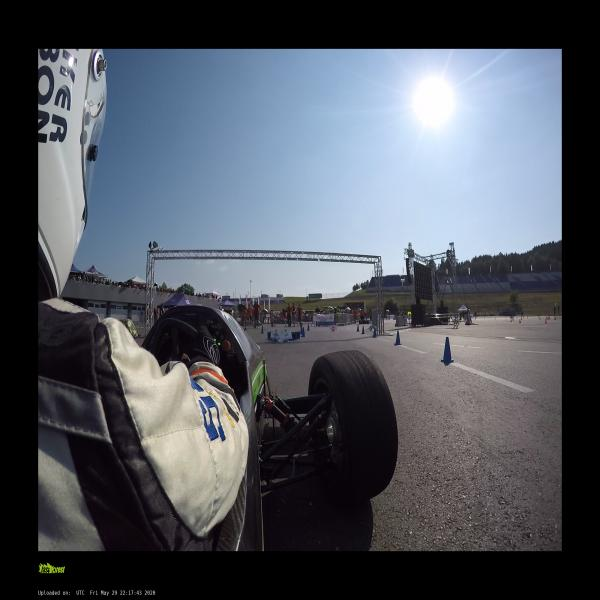blue_cone: (438, 337, 455, 364), (394, 330, 402, 346), (372, 327, 378, 338), (300, 327, 306, 338), (361, 325, 365, 335), (260, 325, 264, 334), (356, 324, 360, 332), (306, 323, 310, 331), (300, 325, 303, 335)
